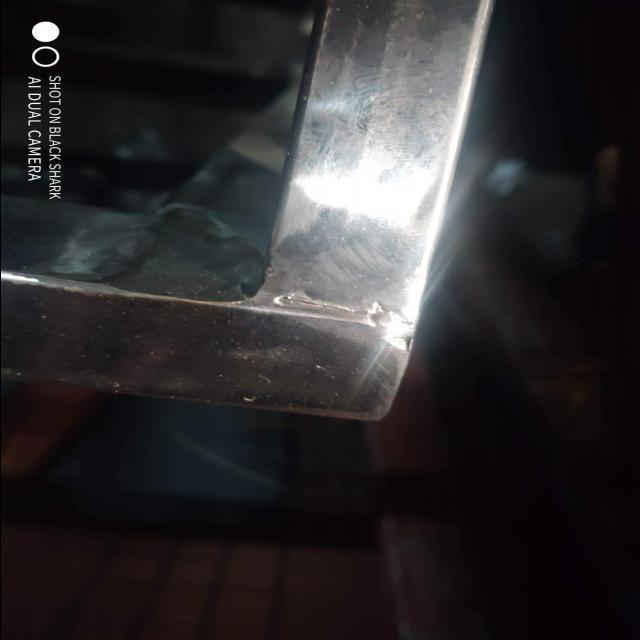Crack: (276, 295, 369, 316)
